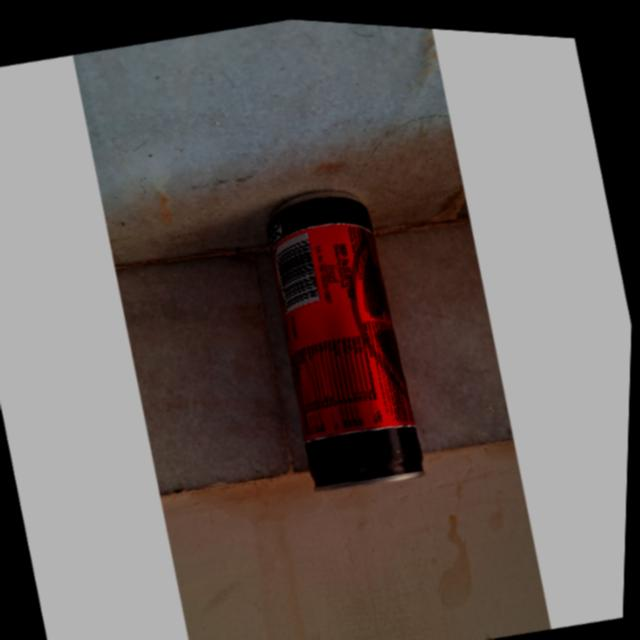Hell Classic: (221, 170, 451, 516)
